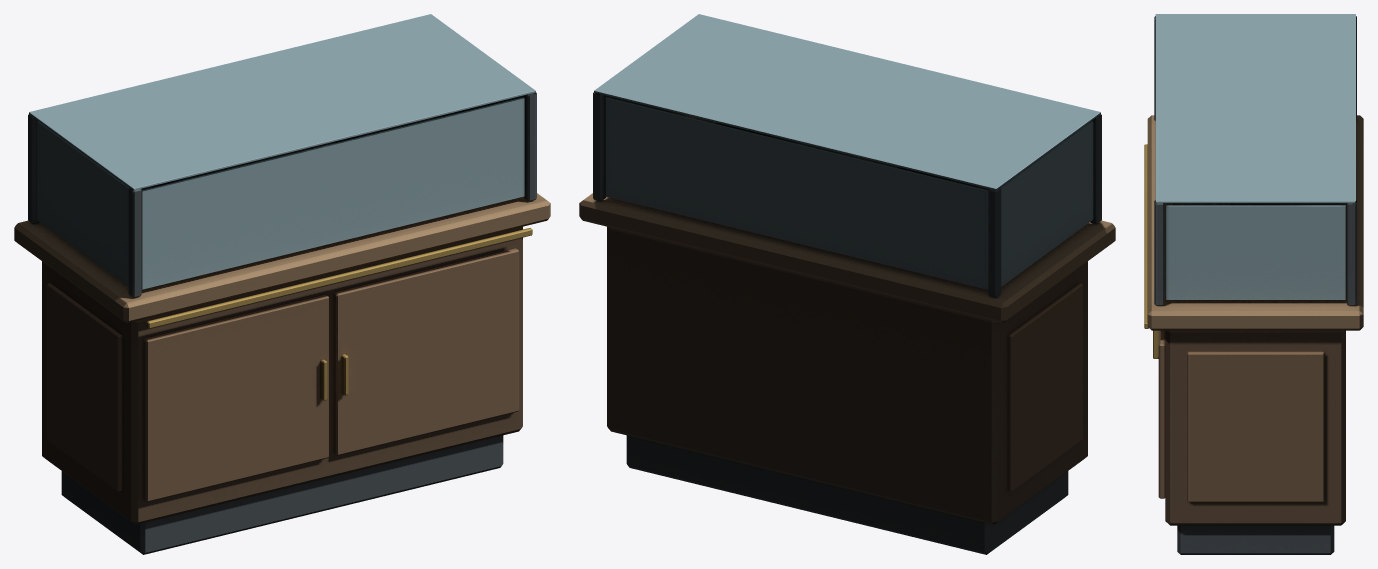
The model's file is 0-20261016-1900-ev025-r04-mockup-glassdisplaycase_baked.glb.
3 renders of one model, left to right at view 1: azimuth 30°, elevation 25°; view 2: azimuth 150°, elevation 25°; view 3: azimuth 270°, elevation 25°, orthographic. The views are drawn at different scales.
Visible parts, largest first — view 1: SW_Showroom_GlassDisplayCase; view 2: SW_Showroom_GlassDisplayCase; view 3: SW_Showroom_GlassDisplayCase.
Part boxes in pixels (x1,y1,x2,y2): SW_Showroom_GlassDisplayCase: (14,14,550,554); SW_Showroom_GlassDisplayCase: (579,14,1115,554); SW_Showroom_GlassDisplayCase: (1144,14,1363,554).
Bounding box in the file's own units: 1.2 × 1.02 × 0.559.
Materials: 1 (1 with a texture image).
